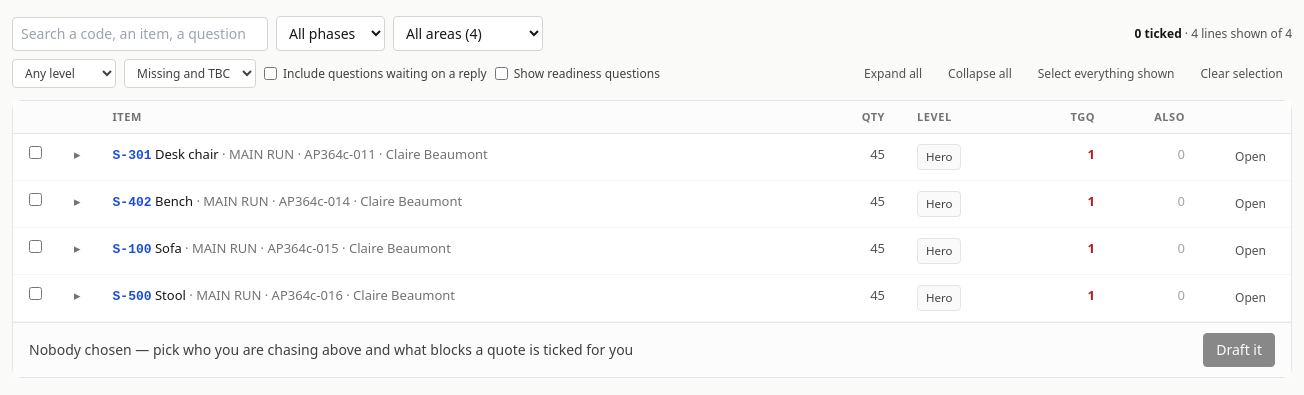
Test case: filtering by area › narrows the lines it lists, and merges the two spellings of one room
This screenshot has width=1304, height=395.
Select "Dressing area (2)" in the dropdown named "Filter by area" at {"x": 468, "y": 34}, box [393,16,543,51]
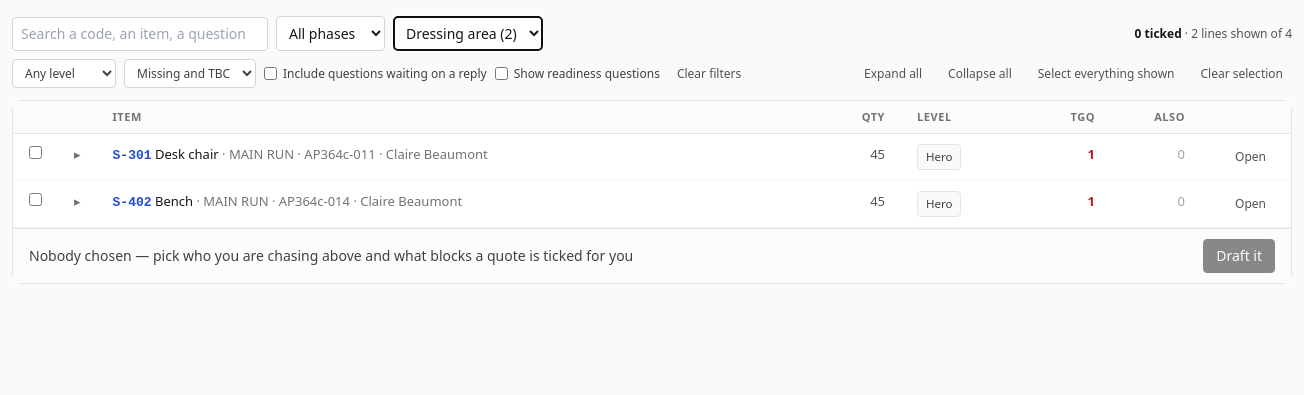
Expected: the text "Desk chair" is shown, [155,145,219,163]
Result: the text "Sofa" is gone
Result: the text "0 ticked · 2 lines shown of 4" is shown at [1135,26,1292,42]
